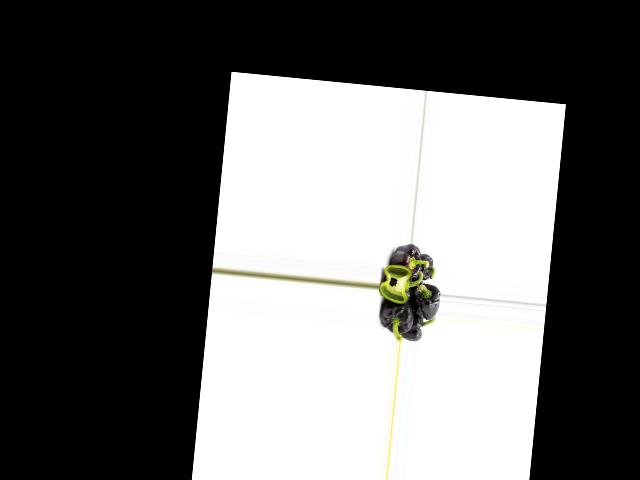bell_pepper: (389, 243, 423, 285)
